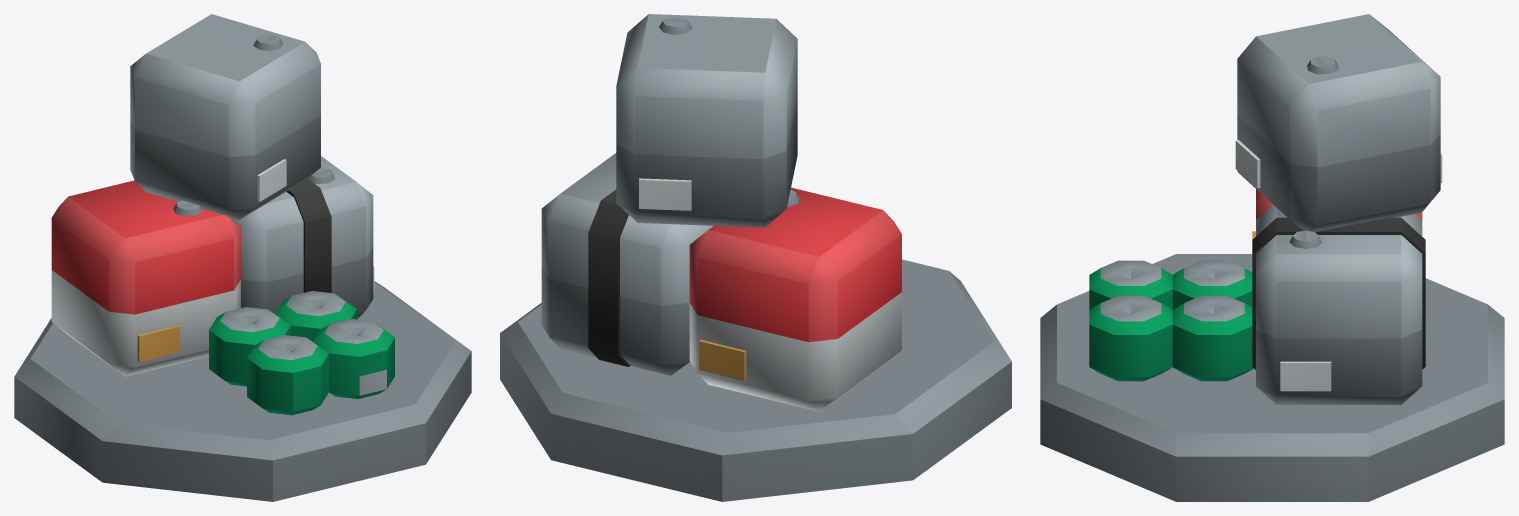
The model's file is kaykit-space-base-bits-roofmodule-cargo-b.glb.
3 views of the same model, side by side, from view 1: azimuth 30°, elevation 25°; view 2: azimuth 150°, elevation 25°; view 3: azimuth 270°, elevation 25° (orthographic). The views are drawn at different scales.
Visible parts, largest first — view 1: roofmodule_cargo_B; view 2: roofmodule_cargo_B; view 3: roofmodule_cargo_B.
Boxes of the visible parts, x1,y1,x2,y2 form: roofmodule_cargo_B: [14, 14, 471, 501]; roofmodule_cargo_B: [500, 14, 1011, 501]; roofmodule_cargo_B: [1040, 14, 1504, 501].
Bounding box in the file's own units: 1.4 × 1.22 × 1.4.
Materials: 1 (1 with a texture image).
